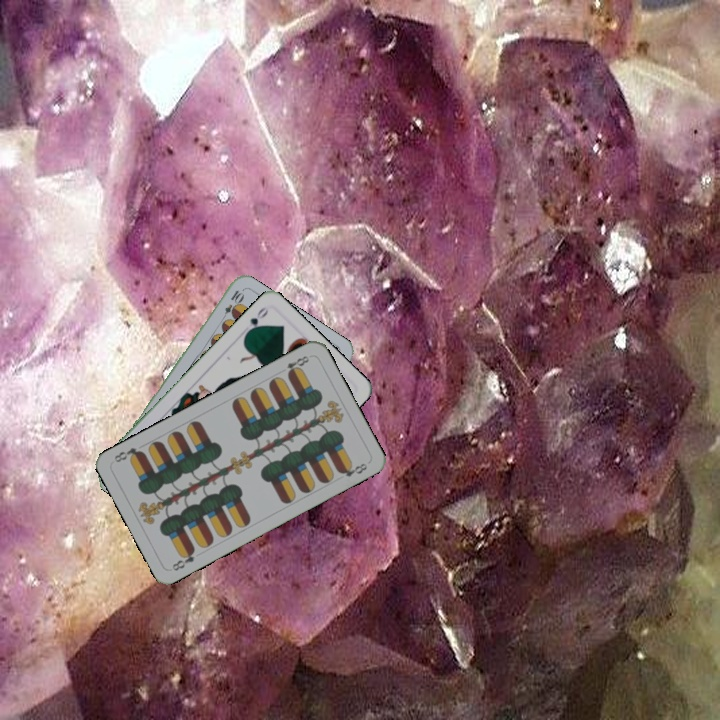E10: (217, 286, 246, 324)
E8: (168, 544, 198, 573), (282, 351, 312, 378)
GO: (242, 303, 271, 338)
